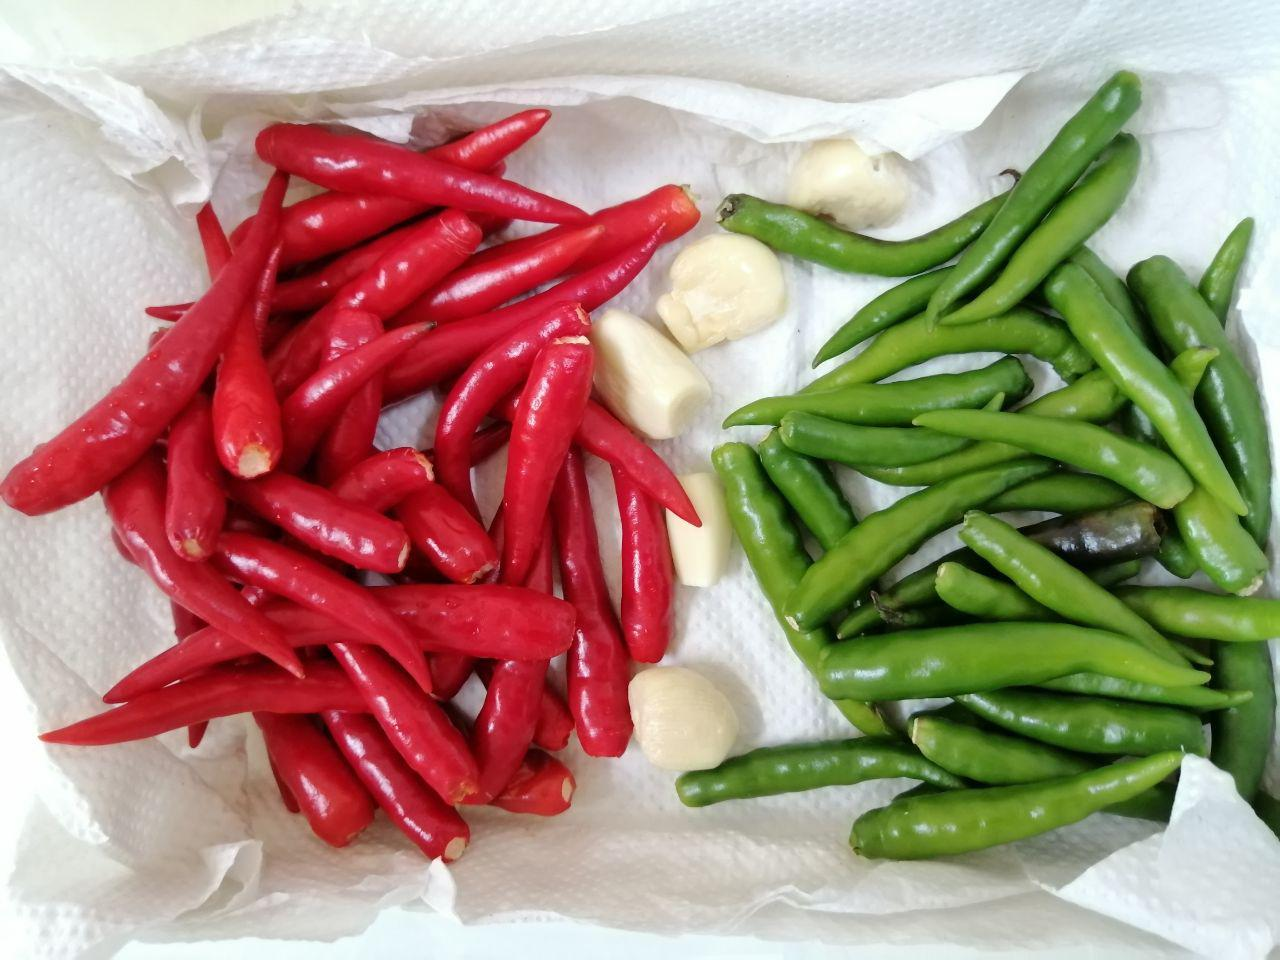lada hijau: (703, 433, 906, 746), (935, 62, 1158, 328), (1035, 258, 1250, 521), (1116, 250, 1280, 553), (858, 742, 1203, 883), (949, 505, 1197, 686), (899, 393, 1194, 515), (822, 612, 1219, 700), (897, 668, 1225, 768), (719, 184, 1037, 284), (674, 733, 966, 827), (731, 361, 1035, 442), (1116, 571, 1278, 661)
lada merah: (5, 165, 315, 524), (102, 572, 580, 705), (375, 169, 710, 337), (233, 106, 600, 231), (521, 424, 644, 767), (172, 179, 293, 490), (433, 290, 585, 524), (487, 325, 603, 615), (47, 655, 387, 742), (222, 456, 418, 584), (321, 708, 477, 868), (241, 697, 377, 864)
